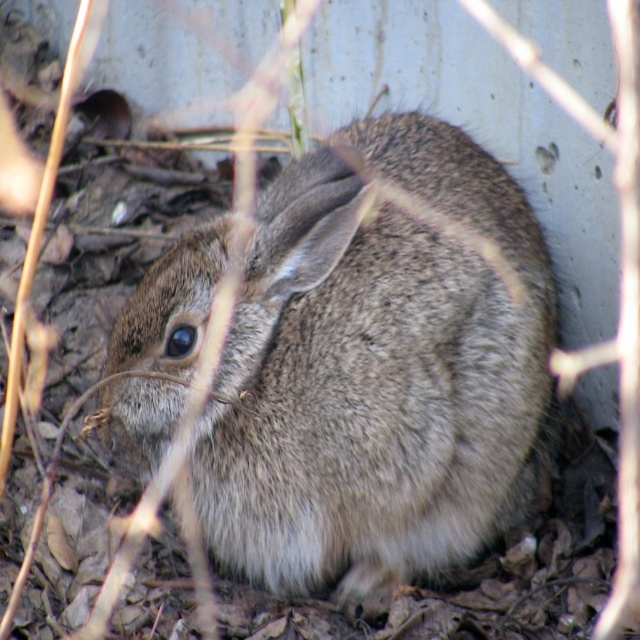Rabbit: (93, 90, 572, 622)
